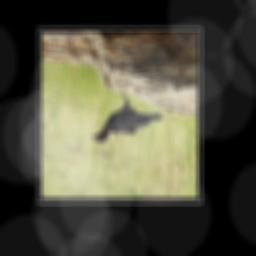Crow: (91, 92, 164, 143)
